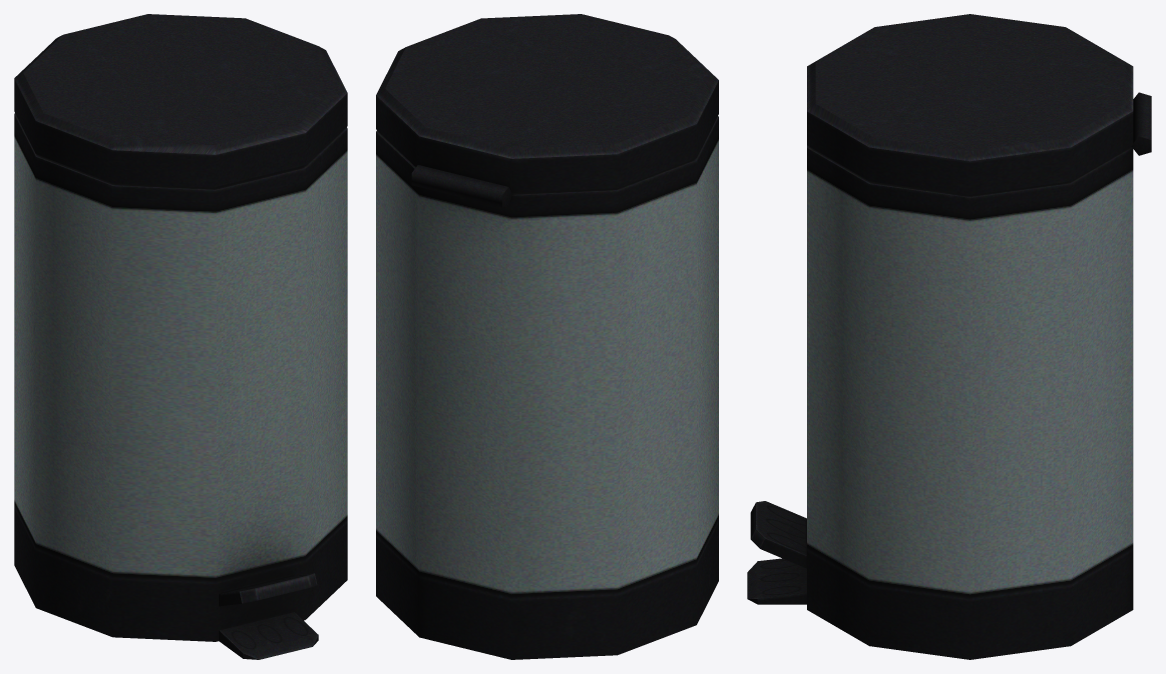
Rendered from Sun_0101_Pedal_bin.fbx.
3 renders of one model, left to right at view 1: azimuth 30°, elevation 25°; view 2: azimuth 150°, elevation 25°; view 3: azimuth 270°, elevation 25°, orthographic. The views are drawn at different scales.
Parts seen in each view (by area): view 1: Sun_0101_Pedal_bin; view 2: Sun_0101_Pedal_bin; view 3: Sun_0101_Pedal_bin.
Part boxes in pixels (x1,y1,x2,y2): Sun_0101_Pedal_bin: [14, 14, 347, 659]; Sun_0101_Pedal_bin: [376, 14, 718, 659]; Sun_0101_Pedal_bin: [747, 14, 1151, 659].
Bounding box in the file's own units: 24.4 × 39.63 × 28.74.
